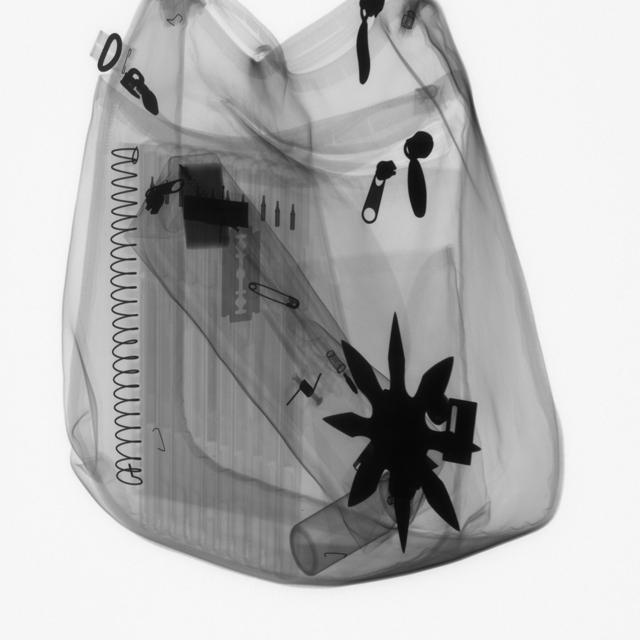razor: (216, 213, 267, 331)
shuriken: (318, 310, 476, 544)
